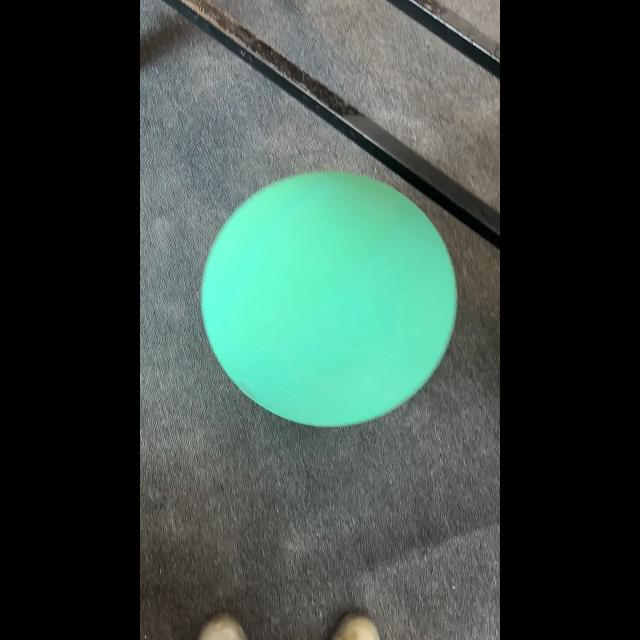ALGAE: (200, 170, 458, 428)
